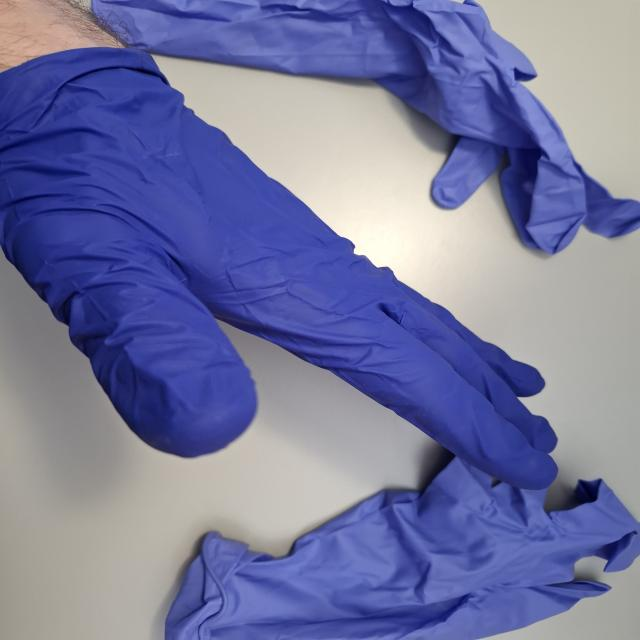glove_on: (0, 36, 564, 494)
